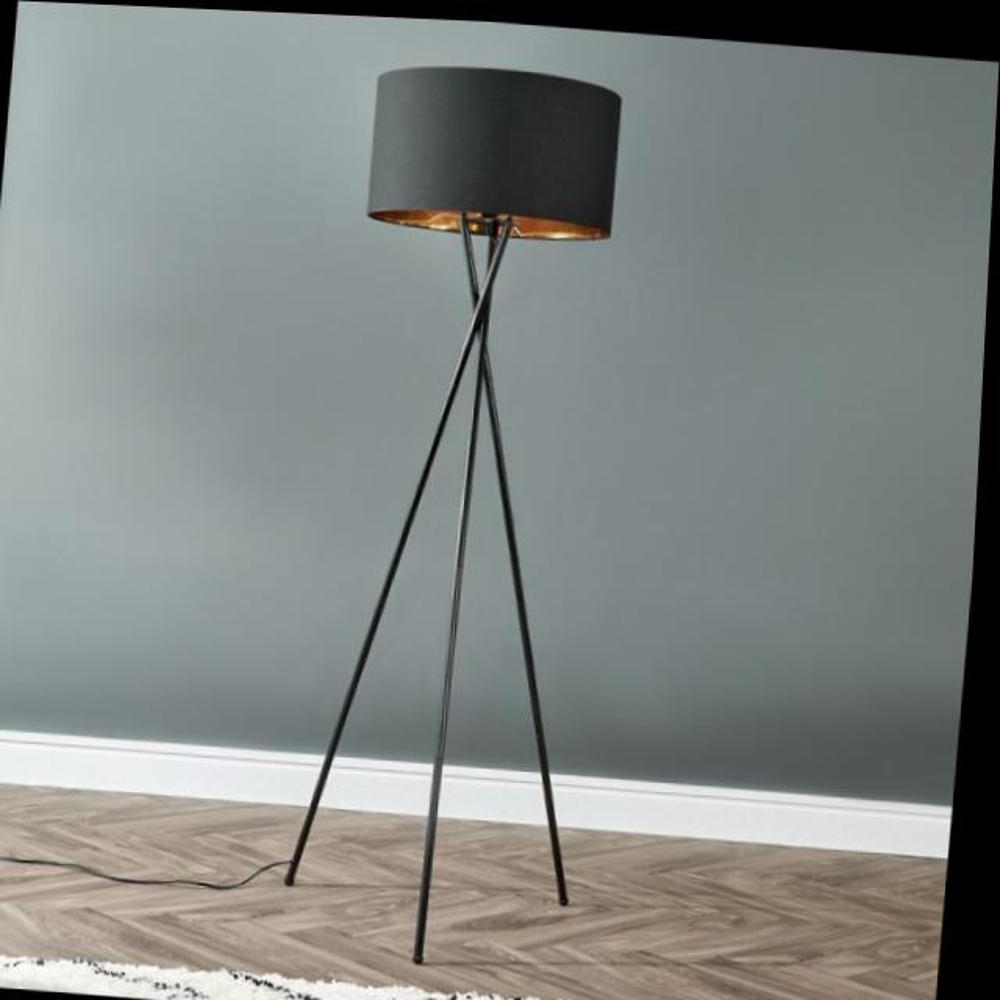shelf: (268, 28, 727, 989)
